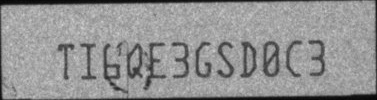0: (263, 40, 280, 79)
3: (171, 41, 190, 78), (309, 39, 326, 77)
6: (102, 43, 120, 79)
C: (285, 39, 303, 78)
D: (240, 41, 258, 78)
E: (149, 42, 167, 78)
G: (195, 41, 213, 78)
I: (79, 42, 97, 80)
Q: (126, 43, 144, 79)
S: (217, 41, 236, 78)
T: (57, 43, 74, 81)
